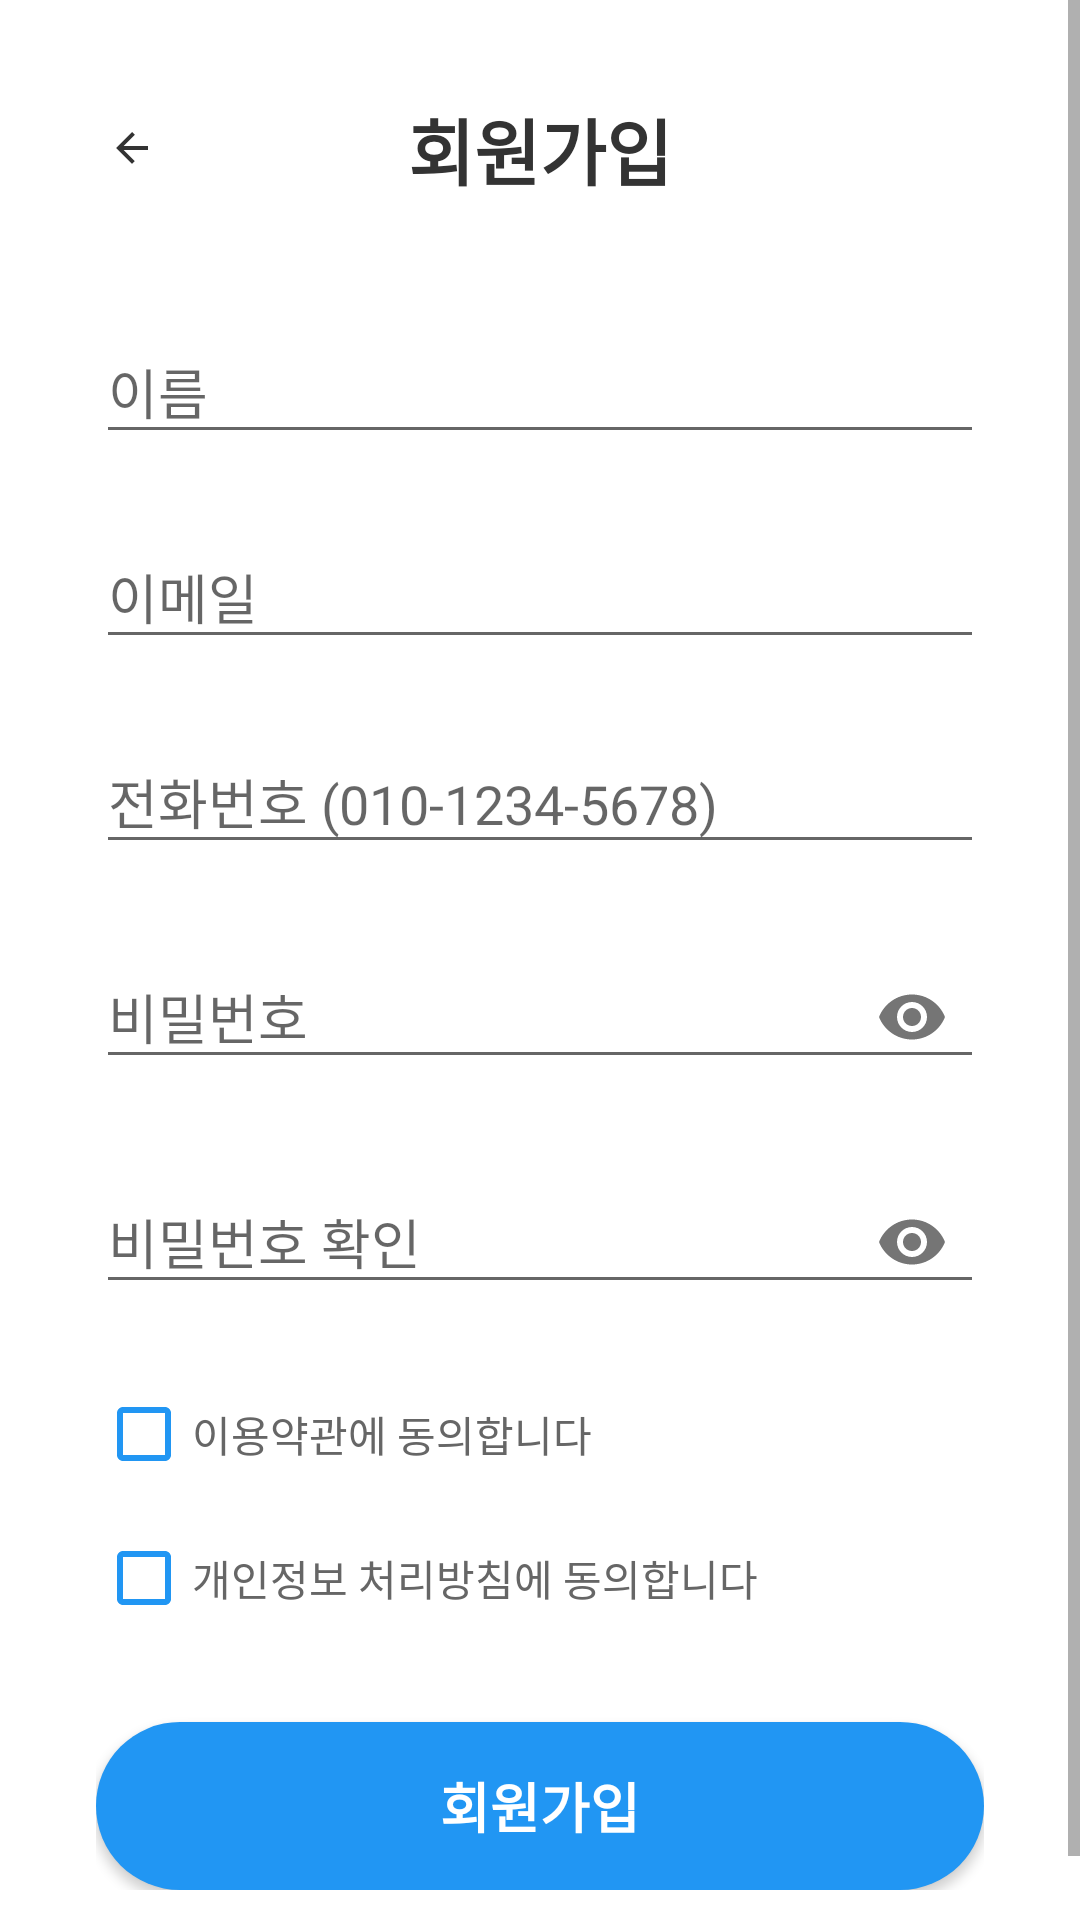

Screen size 1080x1920. Icon name, then its center in pixels as [x,y]:
arrow back: [132,148]
